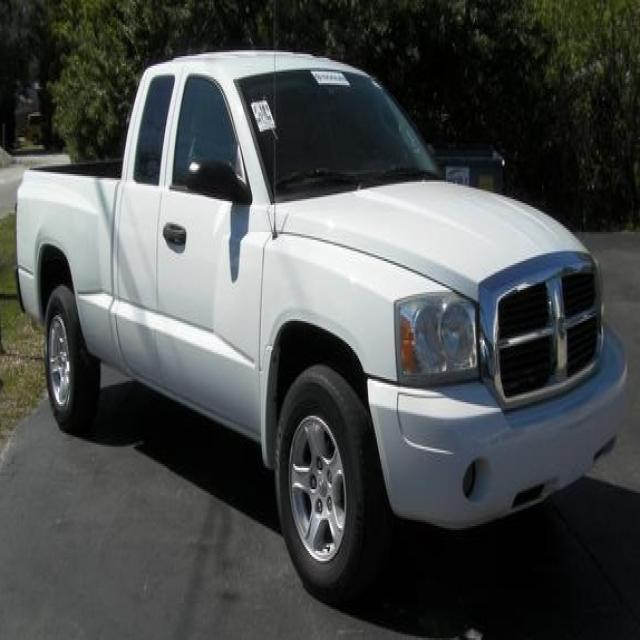CMT: (12, 50, 616, 602)
